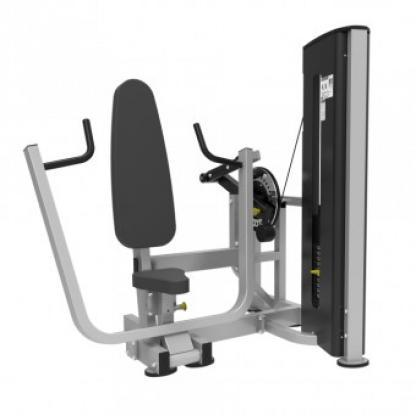Chest Press machine: (22, 21, 383, 386)
